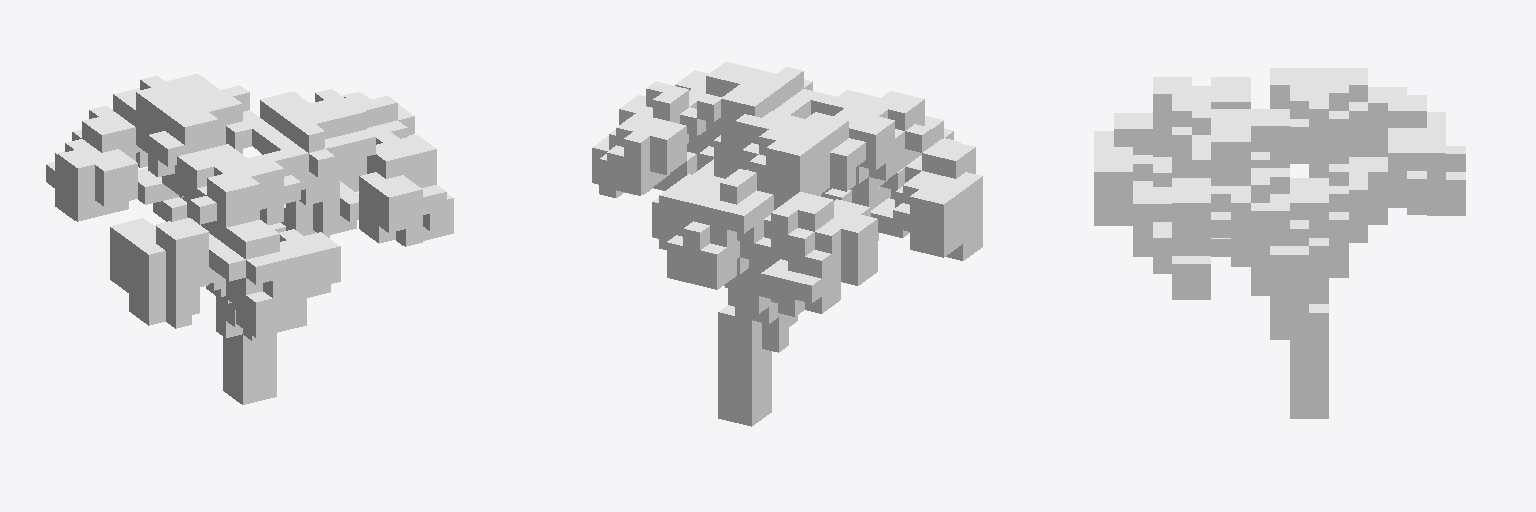
Rendered from Shrub4-2-2.obj.
The picture shows the model from 3 angles: view 1: azimuth 30°, elevation 25°; view 2: azimuth 150°, elevation 25°; view 3: azimuth 270°, elevation 25°; orthographic projection.
Visible parts, largest first — view 1: 2; view 2: 2; view 3: 2.
Boxes of the visible parts, box(x1,y1,x2,y2) form: 2: box(46, 74, 453, 404); 2: box(592, 62, 982, 426); 2: box(1094, 68, 1465, 418).
Bounding box in the file's own units: 3.8 × 3.4 × 3.8.